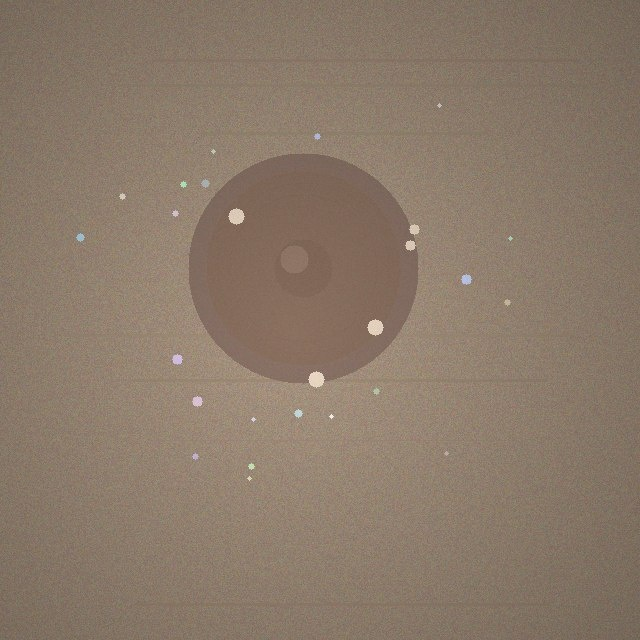overburn: (188, 153, 418, 383)
